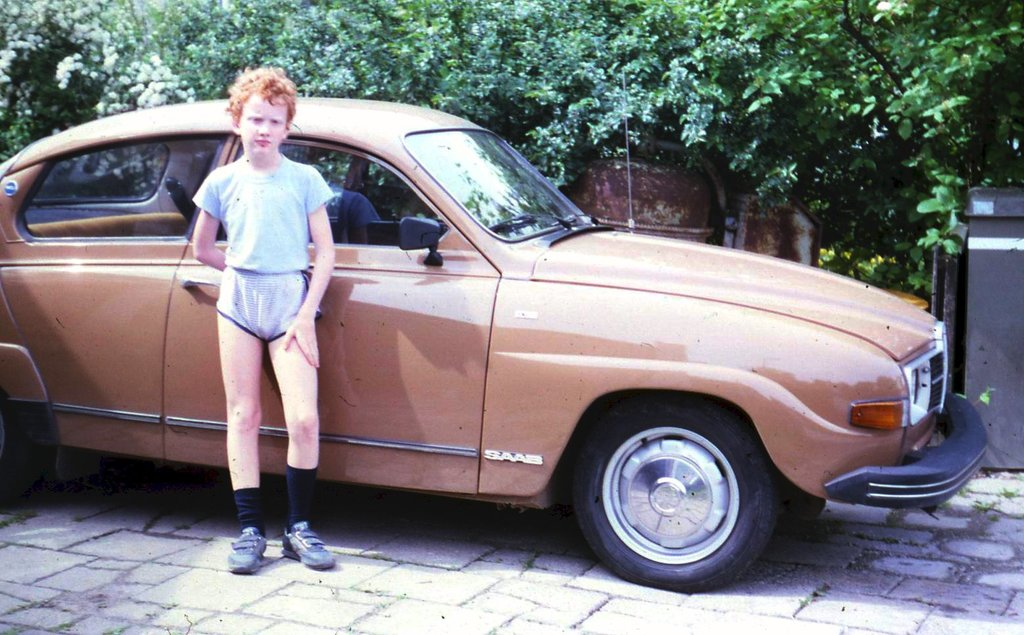Person: (190, 62, 335, 571)
